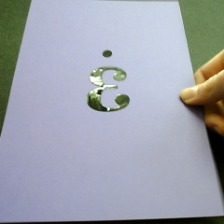violet3: (80, 46, 136, 113)
